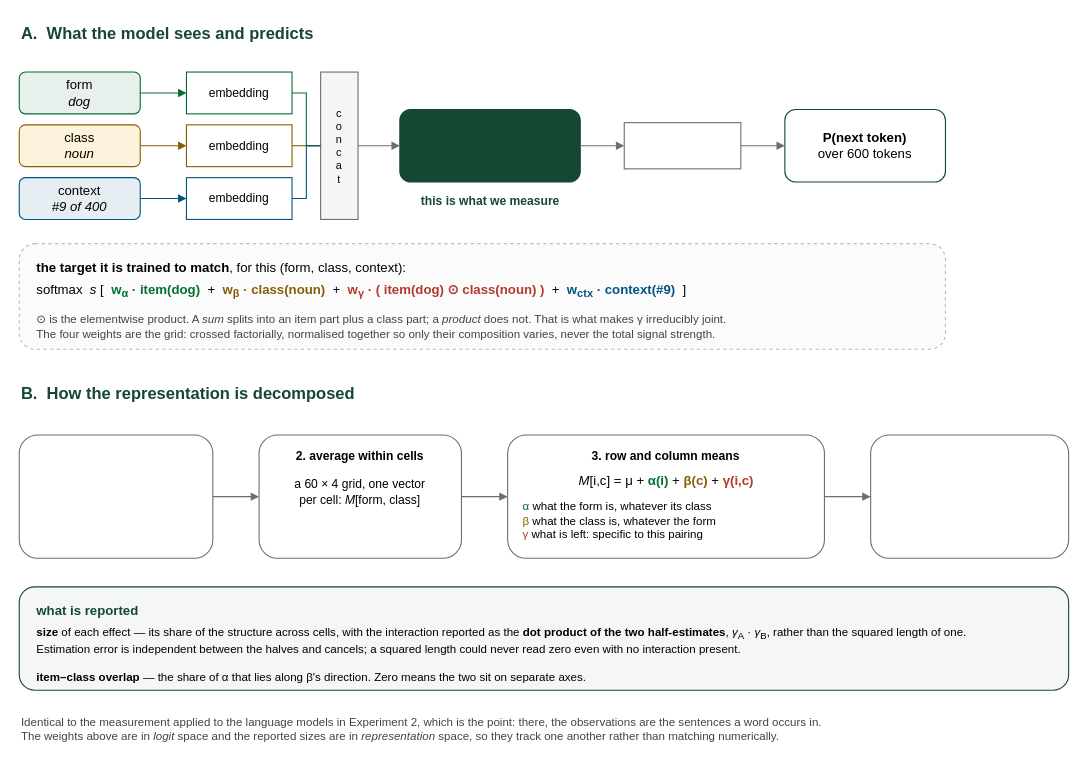
The diagram is 1088 pixels wide and 770 high, and some of its shapes have lost their labels. Each missing label, with the centre of its shape:
"1. collect 24 hidden states per (form, class) cell, one per context it occurs in" belongs at (115,496).
"4. denoise do steps 2–3 twice, on disjoint halves of each cell's observations" belongs at (969,496).
"hidden layer h = φ(W₁ · concat) φ = identity or ReLU" belongs at (489,145).
"linear readout W₂ h" belongs at (682,145).
